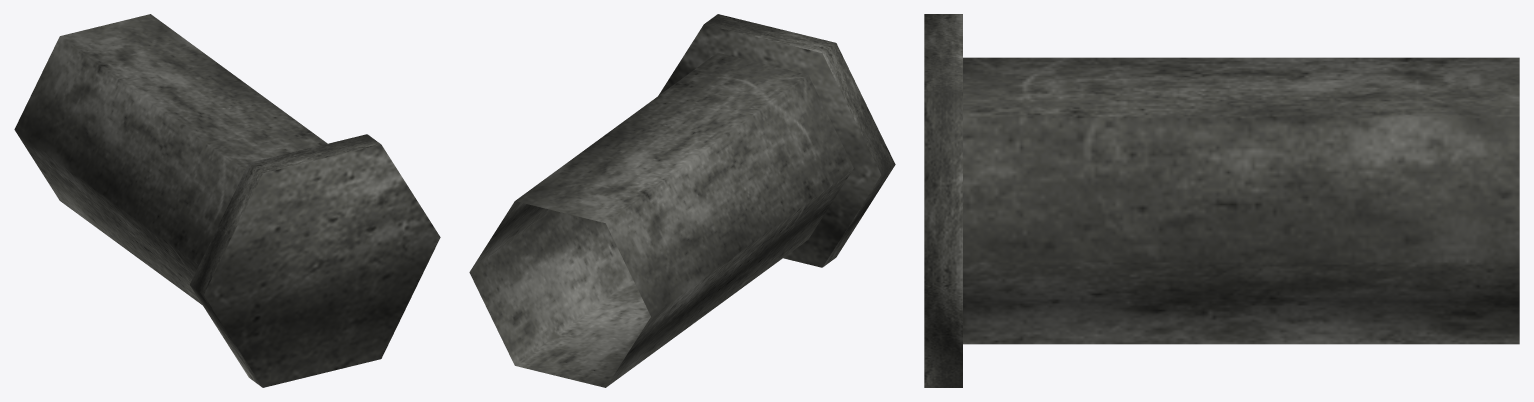
File: large_metal_2.fbx
3 renders of one model, left to right at view 1: azimuth 30°, elevation 25°; view 2: azimuth 150°, elevation 25°; view 3: azimuth 270°, elevation 25°, orthographic. The views are drawn at different scales.
Visible parts, largest first — view 1: polySurface521; view 2: polySurface521; view 3: polySurface521.
Part boxes in pixels (bbox=[...]): polySurface521: bbox=[14, 14, 440, 387]; polySurface521: bbox=[469, 14, 895, 387]; polySurface521: bbox=[924, 14, 1519, 387].
Size of the model in its own units: 1.3 by 1.13 by 2.07.
